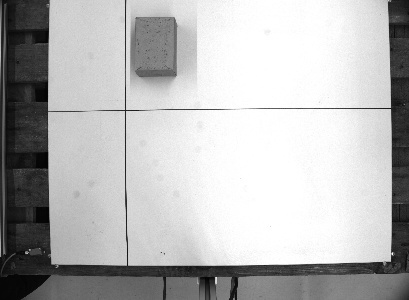b6: (131, 13, 179, 79)
